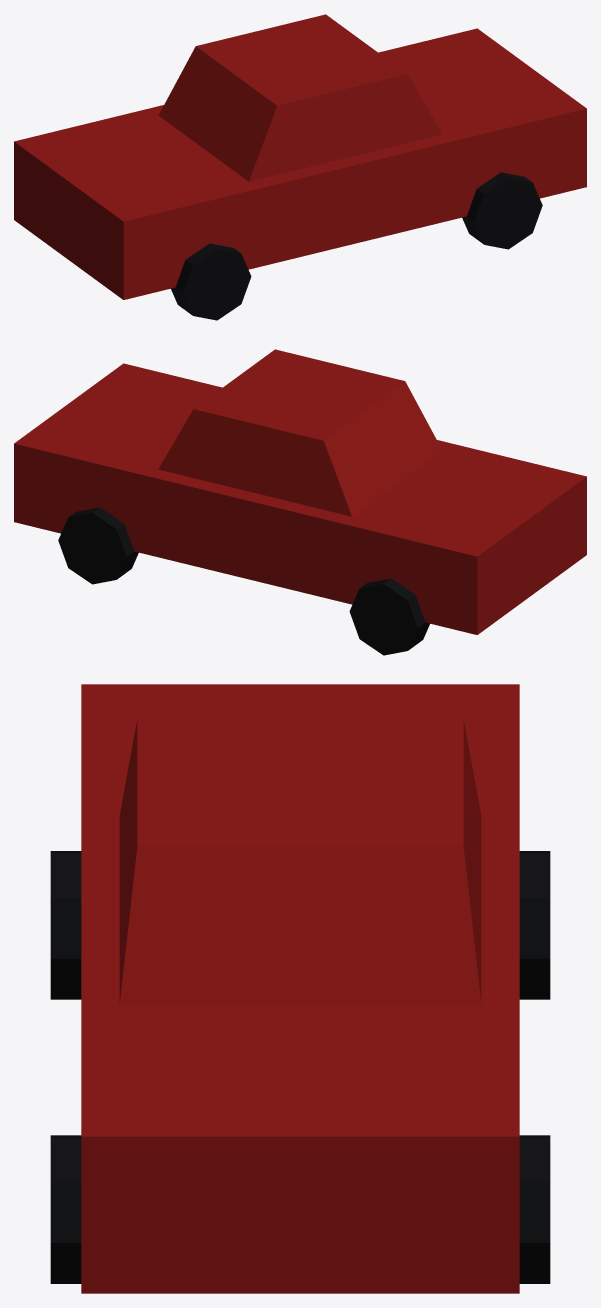
Rendered from proxy_sedan_red.dae.
3 views of the same model, one above another, from view 1: azimuth 30°, elevation 25°; view 2: azimuth 150°, elevation 25°; view 3: azimuth 270°, elevation 25° (orthographic). The views are drawn at different scales.
Visible parts, largest first — view 1: proxy_sedan; view 2: proxy_sedan; view 3: proxy_sedan.
Boxes of the visible parts, <box> form: proxy_sedan: <box>14,14,586,320</box>; proxy_sedan: <box>14,349,586,655</box>; proxy_sedan: <box>50,684,550,1293</box>.
Size of the model in its own units: 4.2 by 1.96 by 1.55.
